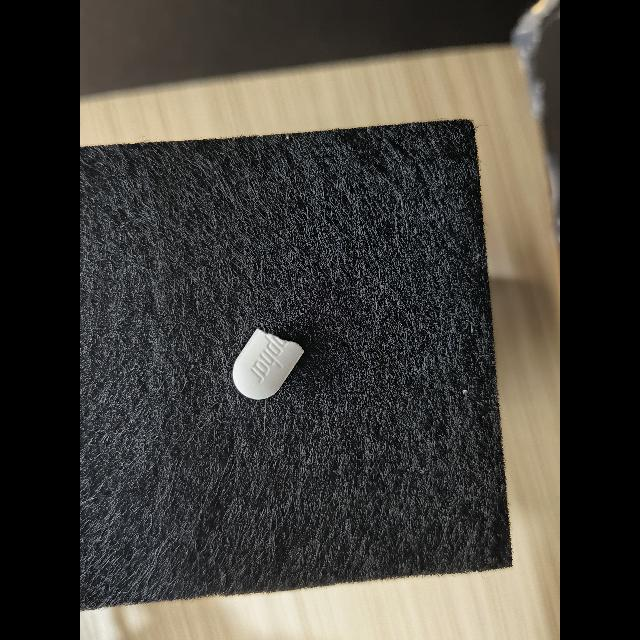Chipped Pill: (233, 328, 304, 400)
